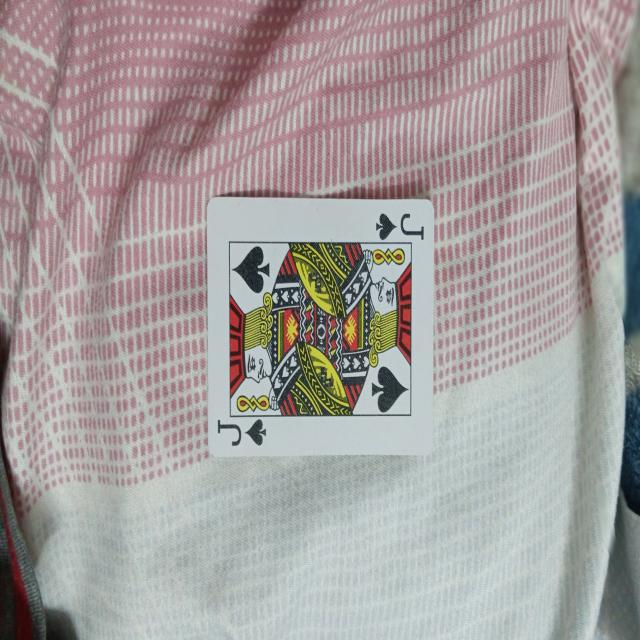JS: (207, 196, 435, 462)
